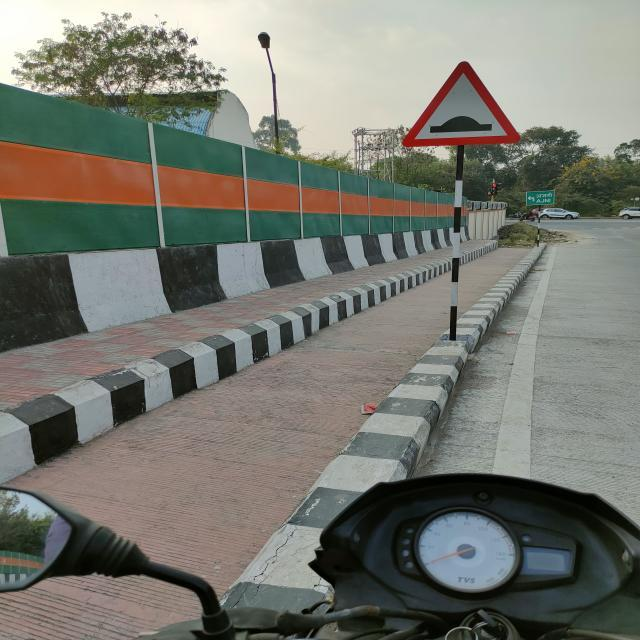hump or rough road: (394, 58, 526, 149)
